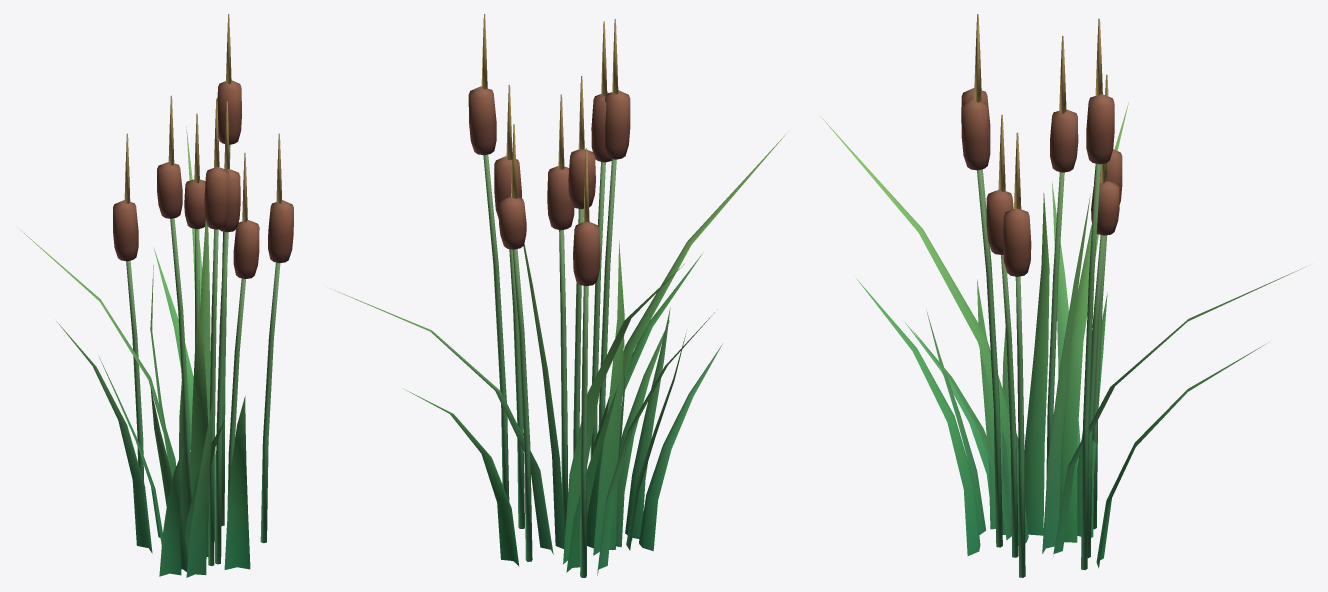
Rendered from verdant_ground_cattails.glb.
3 renders of one model, left to right at view 1: azimuth 30°, elevation 25°; view 2: azimuth 150°, elevation 25°; view 3: azimuth 270°, elevation 25°, orthographic. The views are drawn at different scales.
Parts seen in each view (by area): view 1: verdant_ground_cattails; view 2: verdant_ground_cattails; view 3: verdant_ground_cattails.
Boxes of the visible parts, x1,y1,x2,y2 form: verdant_ground_cattails: [17, 14, 293, 577]; verdant_ground_cattails: [330, 14, 788, 577]; verdant_ground_cattails: [820, 14, 1309, 577].
Bounding box in the file's own units: 1.25 × 2.34 × 1.89.
